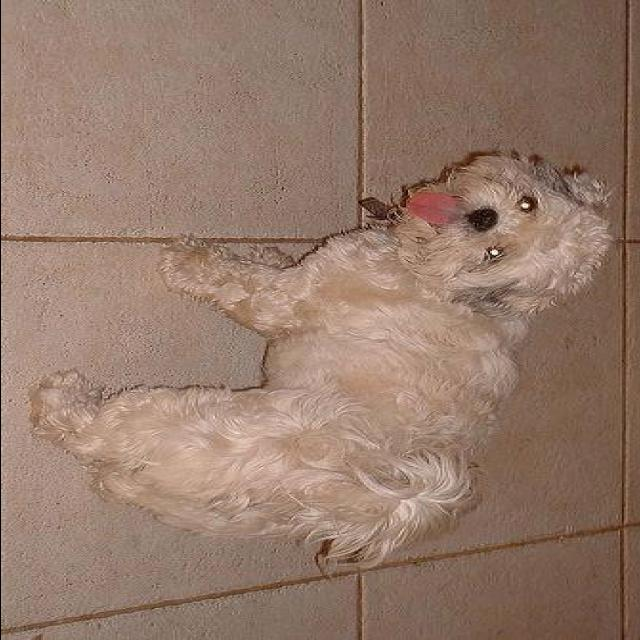shih_tzu: (25, 153, 613, 571)
